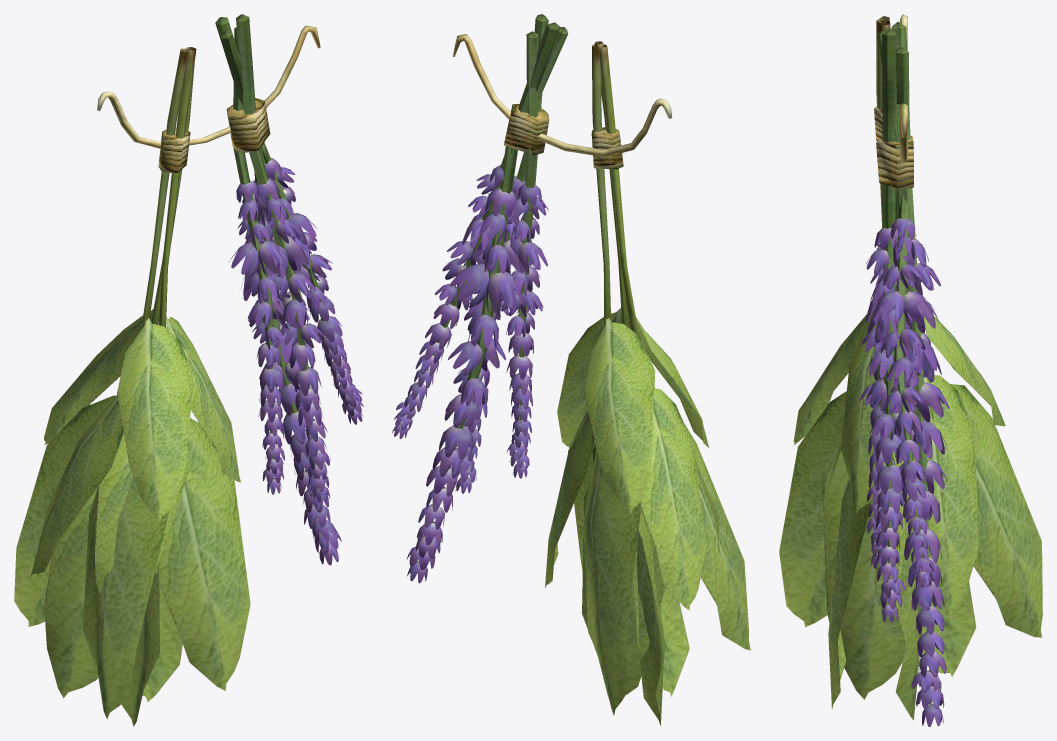
Rendered from Herb_WallHanging.fbx.
The picture shows the model from 3 angles, left to right: view 1: azimuth 30°, elevation 25°; view 2: azimuth 150°, elevation 25°; view 3: azimuth 270°, elevation 25°; orthographic projection. The views are drawn at different scales.
Parts seen in each view (by area): view 1: BasilLeaf.001, LavenderFlower.001, LavenderStem.001, BasilStem.003, StretchRope, Rope.001, Rope; view 2: BasilLeaf.001, LavenderFlower.001, LavenderStem.001, BasilStem.003, StretchRope, Rope.001, Rope; view 3: BasilLeaf.001, LavenderFlower.001, LavenderStem.001, Rope.001, BasilStem.003, StretchRope.
Boxes of the visible parts, x1,y1,x2,y2 form: BasilLeaf.001: [14, 309, 250, 726]; LavenderFlower.001: [228, 158, 363, 565]; LavenderStem.001: [215, 14, 324, 479]; BasilStem.003: [141, 47, 196, 329]; StretchRope: [97, 25, 320, 148]; Rope.001: [226, 98, 270, 152]; Rope: [158, 128, 190, 172]; BasilLeaf.001: [545, 308, 750, 725]; LavenderFlower.001: [392, 165, 548, 583]; LavenderStem.001: [399, 14, 567, 522]; BasilStem.003: [592, 41, 638, 335]; StretchRope: [452, 34, 672, 157]; Rope.001: [504, 104, 549, 155]; Rope: [591, 127, 623, 169]; BasilLeaf.001: [779, 310, 1042, 720]; LavenderFlower.001: [859, 218, 949, 726]; LavenderStem.001: [877, 21, 932, 704]; Rope.001: [876, 135, 913, 188]; BasilStem.003: [876, 16, 897, 227]; StretchRope: [900, 14, 907, 161].
Bounding box in the file's own units: 573 × 1168 × 379.
3 materials, 3 textured.
